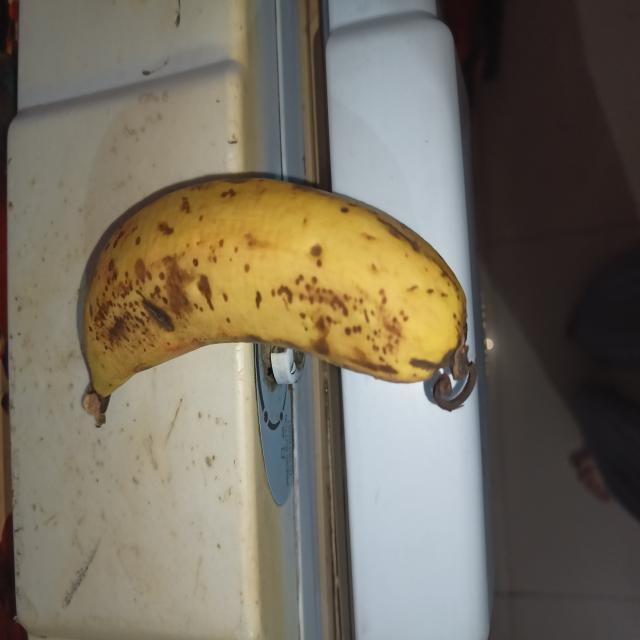banana_peel: (58, 141, 494, 438)
